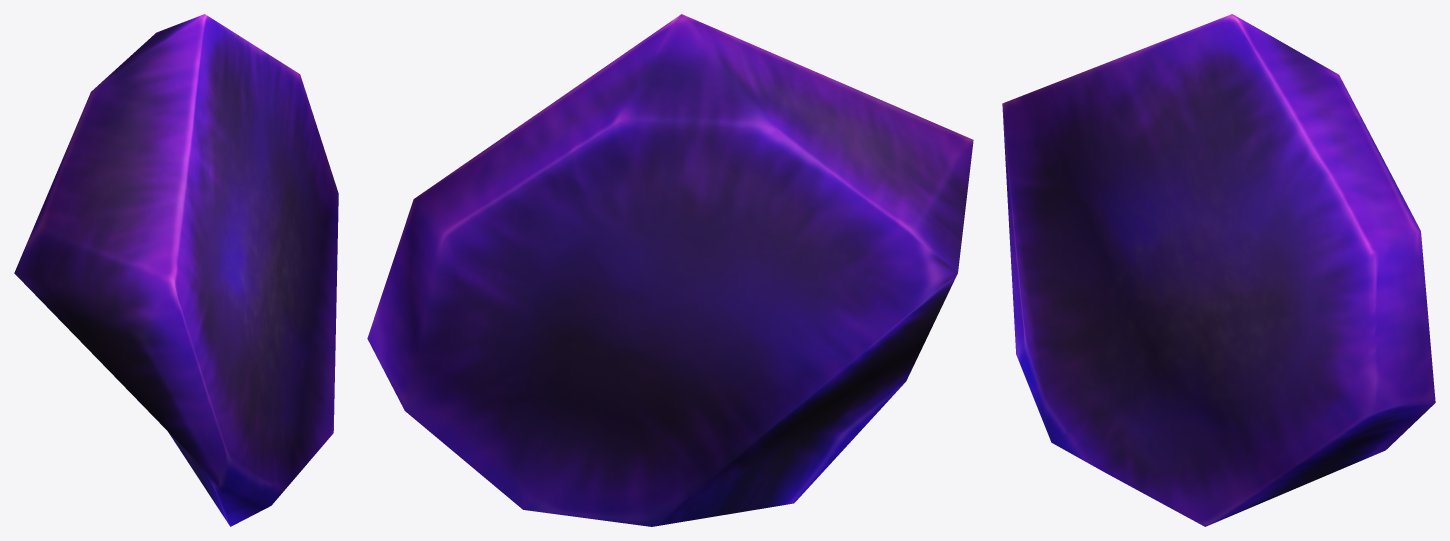
The model's file is gemStone_purple.fbx.
3 views of the same model, side by side, from view 1: azimuth 30°, elevation 25°; view 2: azimuth 150°, elevation 25°; view 3: azimuth 270°, elevation 25° (orthographic). The views are drawn at different scales.
Visible parts, largest first — view 1: GemStone02; view 2: GemStone02; view 3: GemStone02.
Boxes of the visible parts, <box> form: GemStone02: <box>14,14,338,526</box>; GemStone02: <box>367,14,973,526</box>; GemStone02: <box>1002,14,1435,526</box>.
Size of the model in its own units: 81.73 by 85.91 by 70.78.
Materials: 1 (1 with a texture image).
